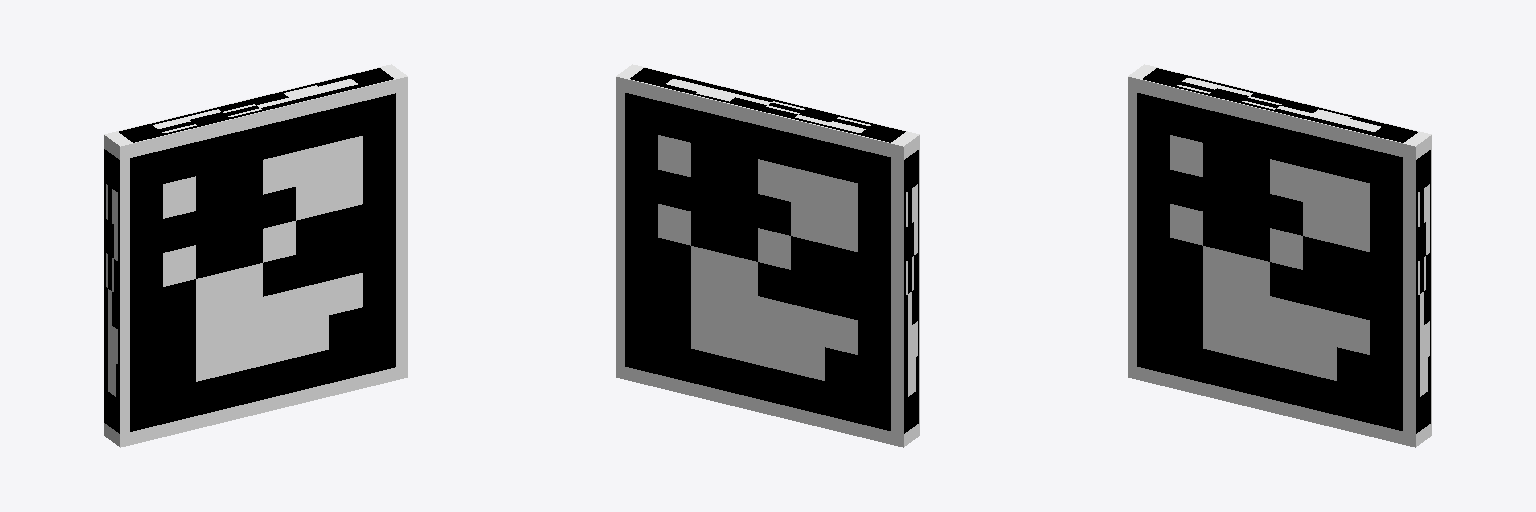
The picture shows the model from 3 angles: view 1: azimuth 30°, elevation 25°; view 2: azimuth 150°, elevation 25°; view 3: azimuth 330°, elevation 25°; orthographic projection.
Parts seen in each view (by area): view 1: Cube; view 2: Cube; view 3: Cube.
Boxes of the visible parts, x1=… form: Cube: x1=104, y1=64, x2=407, y2=447; Cube: x1=616, y1=64, x2=919, y2=447; Cube: x1=1128, y1=64, x2=1431, y2=447.
Bounding box in the file's own units: 2 × 2 × 0.2.
1 materials, 1 textured.